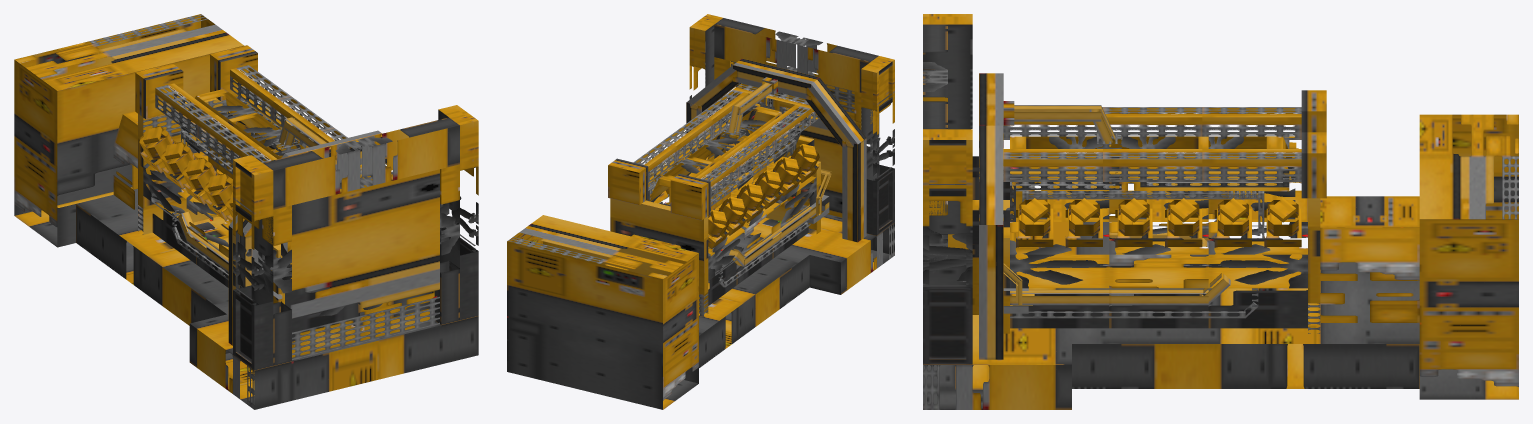
The model's file is liquid_generator_r.obj.
3 views of the same model, side by side, from view 1: azimuth 30°, elevation 25°; view 2: azimuth 150°, elevation 25°; view 3: azimuth 270°, elevation 25° (orthographic). The views are drawn at different scales.
Parts seen in each view (by area): view 1: liquidgenerator_r; view 2: liquidgenerator_r; view 3: liquidgenerator_r.
Part boxes in pixels (<box>): liquidgenerator_r: <box>14,14,478,409</box>; liquidgenerator_r: <box>507,14,894,409</box>; liquidgenerator_r: <box>923,14,1518,409</box>.
Bounding box in the file's own units: 3 × 3 × 6.
